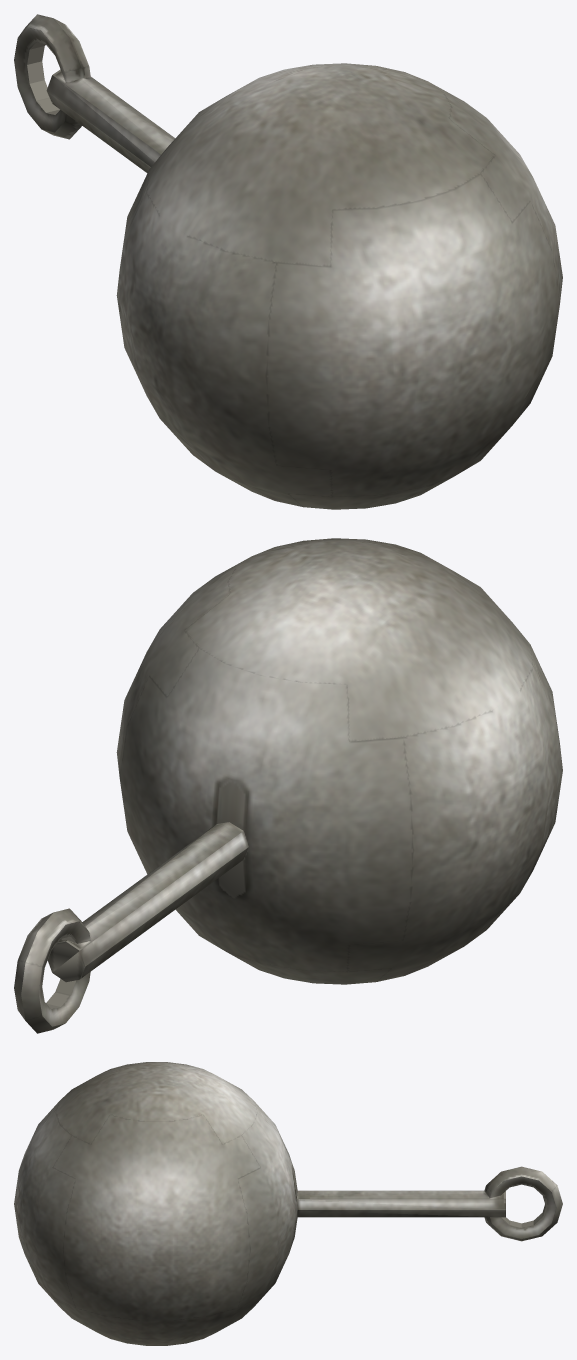
File: item_mm9_10252.glb
3 views of the same model, one above another, from view 1: azimuth 30°, elevation 25°; view 2: azimuth 150°, elevation 25°; view 3: azimuth 270°, elevation 25° (orthographic). The views are drawn at different scales.
Visible parts, largest first — view 1: d10252; view 2: d10252; view 3: d10252.
Part boxes in pixels (left/top/right/bottom): d10252: left=14, top=14, right=562, bottom=509; d10252: left=14, top=538, right=562, bottom=1033; d10252: left=14, top=1062, right=562, bottom=1345.
Bounding box in the file's own units: 29.66 × 29.97 × 57.6.
1 material, 1 textured.
